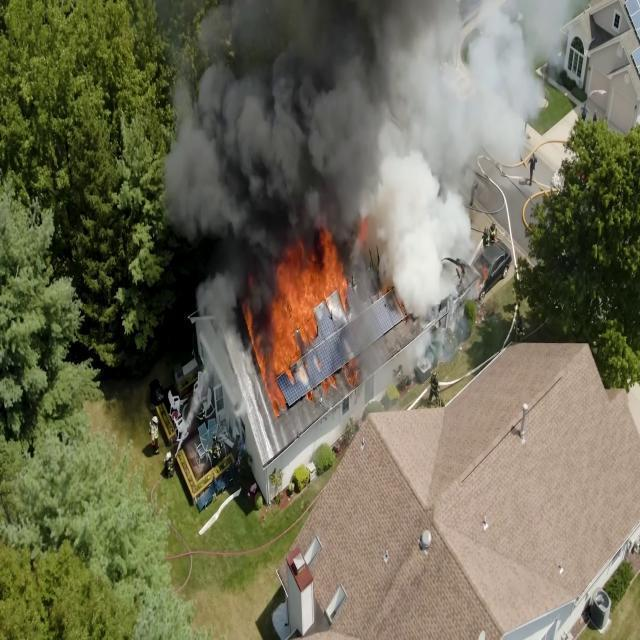Fire: (255, 245, 345, 375)
Smoke: (185, 61, 378, 238), (385, 44, 488, 283)
